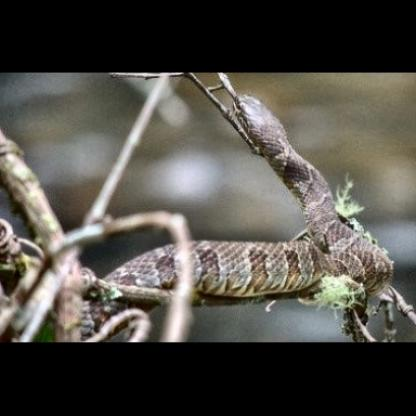Snake: (71, 86, 396, 338)
